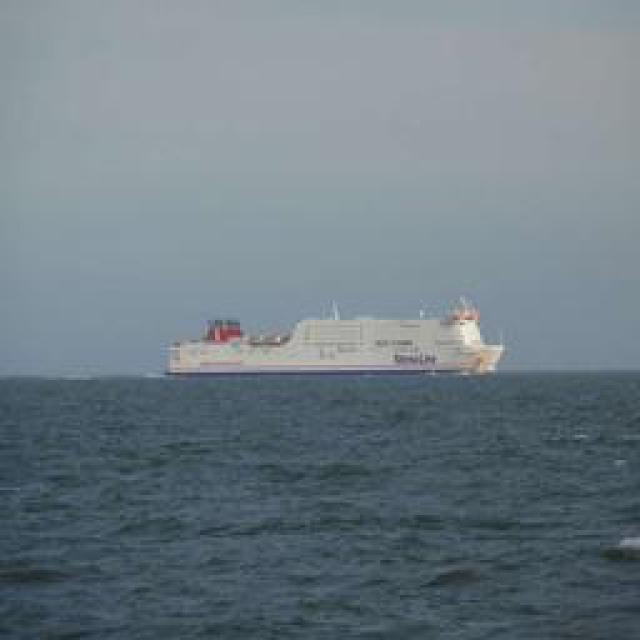Ship: (157, 303, 507, 381)
